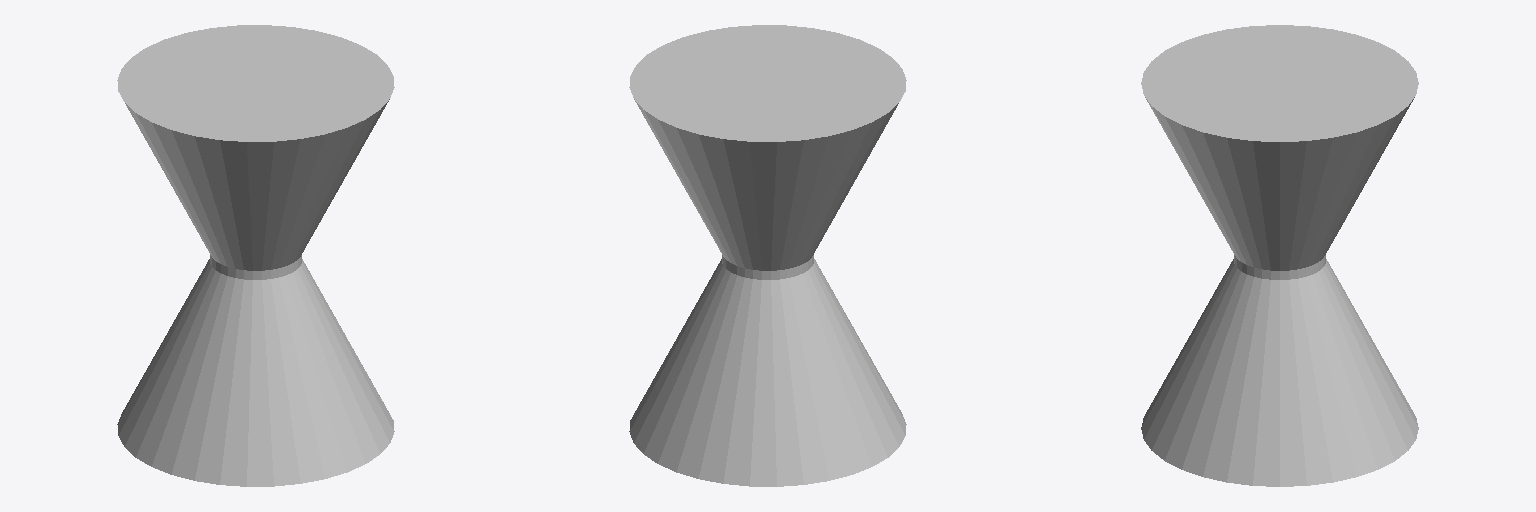
The model's file is clockshape.obj.
3 renders of one model, left to right at view 1: azimuth 30°, elevation 25°; view 2: azimuth 150°, elevation 25°; view 3: azimuth 270°, elevation 25°, orthographic.
Visible parts, largest first — view 1: Cone_Cone.001; view 2: Cone_Cone.001; view 3: Cone_Cone.001.
Boxes of the visible parts, box(x1,y1,x2,y2) form: Cone_Cone.001: box(117, 25, 394, 486); Cone_Cone.001: box(629, 25, 906, 486); Cone_Cone.001: box(1141, 25, 1418, 486).
Bounding box in the file's own units: 2 × 2.74 × 2.